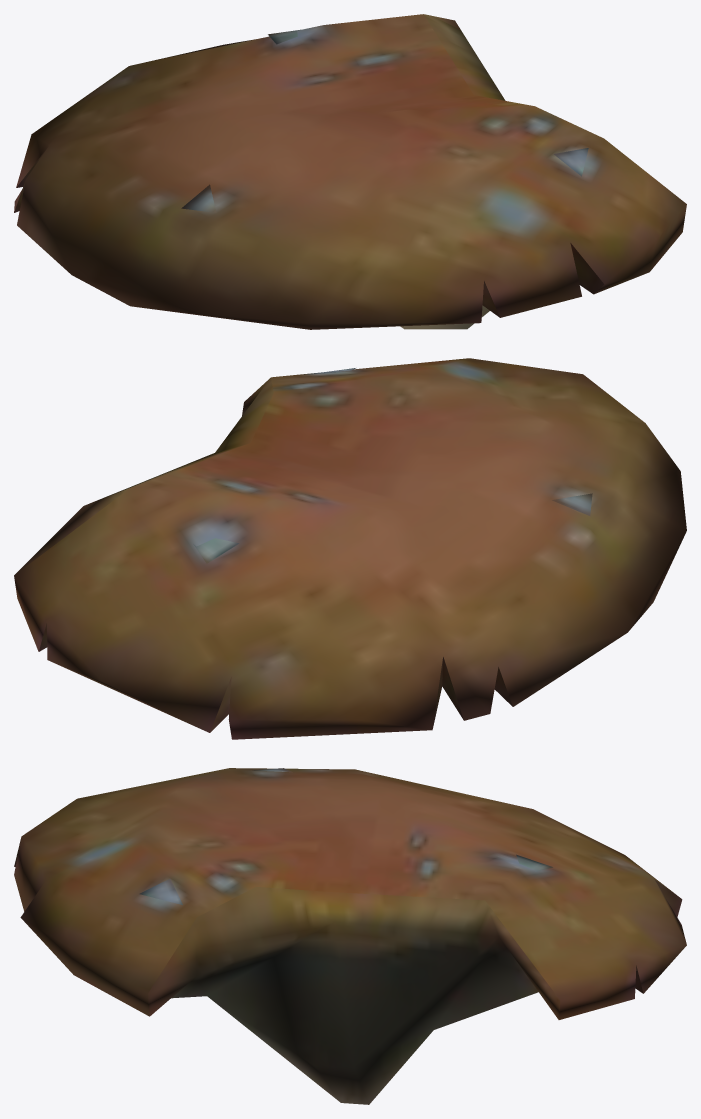
File: bounce-cap.lod1.glb
3 renders of one model, top to bottom at view 1: azimuth 30°, elevation 25°; view 2: azimuth 150°, elevation 25°; view 3: azimuth 270°, elevation 25°, orthographic. The views are drawn at different scales.
Parts seen in each view (by area): view 1: SM_RainForest_BounceCap_Side_A_LOD0.mo_MI_RainForest_BounceC; view 2: SM_RainForest_BounceCap_Side_A_LOD0.mo_MI_RainForest_BounceC; view 3: SM_RainForest_BounceCap_Side_A_LOD0.mo_MI_RainForest_BounceC.
Part boxes in pixels (<box>): SM_RainForest_BounceCap_Side_A_LOD0.mo_MI_RainForest_BounceC: <box>14,14,686,329</box>; SM_RainForest_BounceCap_Side_A_LOD0.mo_MI_RainForest_BounceC: <box>14,358,686,739</box>; SM_RainForest_BounceCap_Side_A_LOD0.mo_MI_RainForest_BounceC: <box>14,768,686,1104</box>.
Bounding box in the file's own units: 2.37 × 1.15 × 3.09.
1 material, 1 textured.
